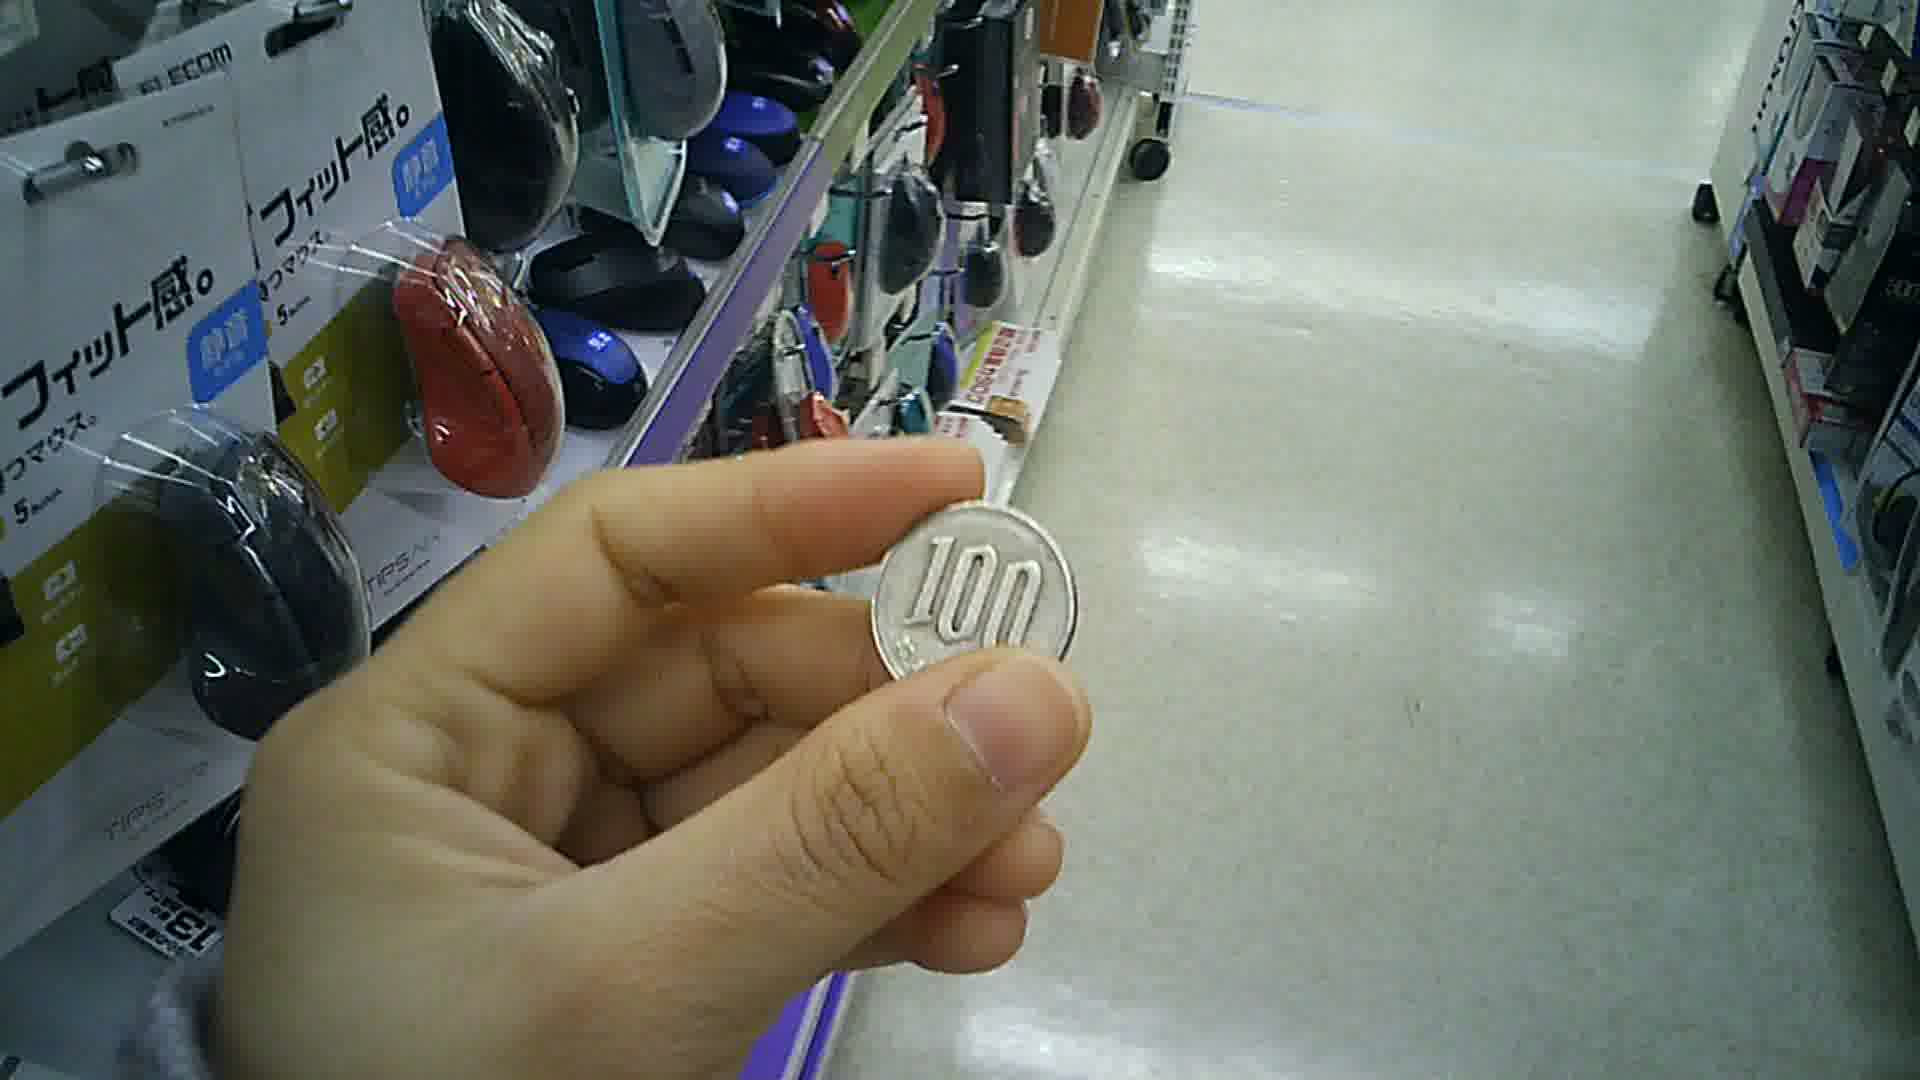100 Yen: (870, 496, 1077, 705)
